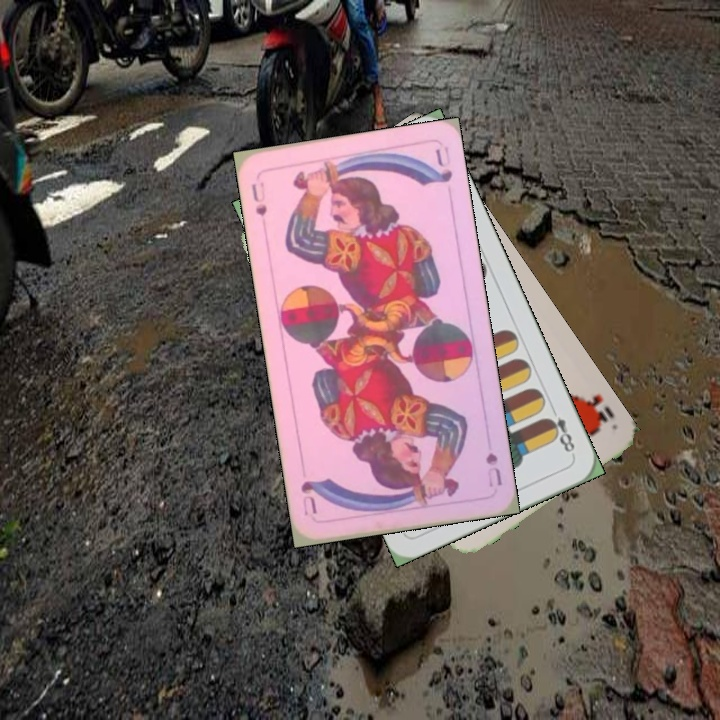E8: (541, 403, 578, 459)
HO: (573, 389, 618, 433)
SU: (481, 448, 505, 490), (247, 178, 269, 220)
